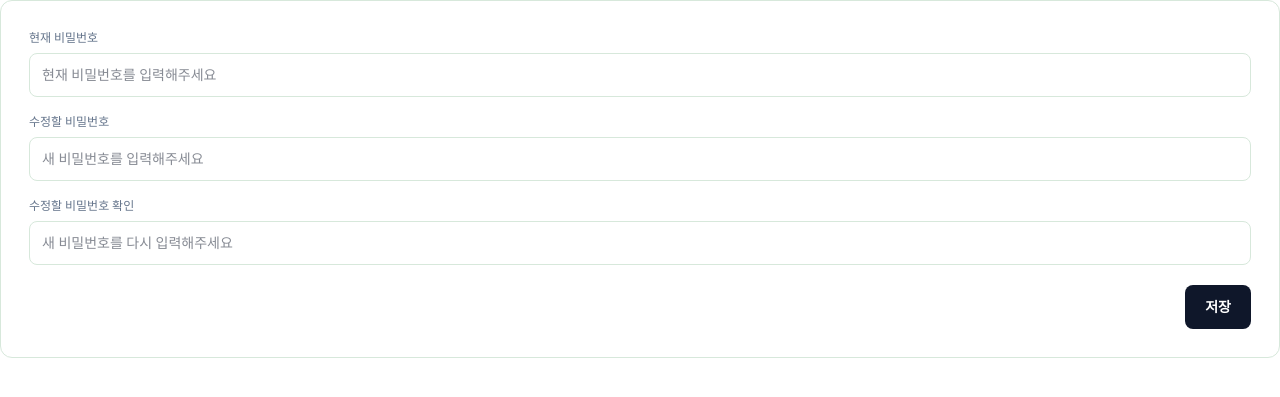
Test: MyPassword › 현재 비밀번호를 입력하지 않으면 에러 메시지를 노출하고 변경하지 않는다
The image size is (1280, 397).
Type "newpass1234" into the password field with placeholder "새 비밀번호를 입력해주세요". click: (640, 159)
box: left=29, top=137, right=1251, bottom=181
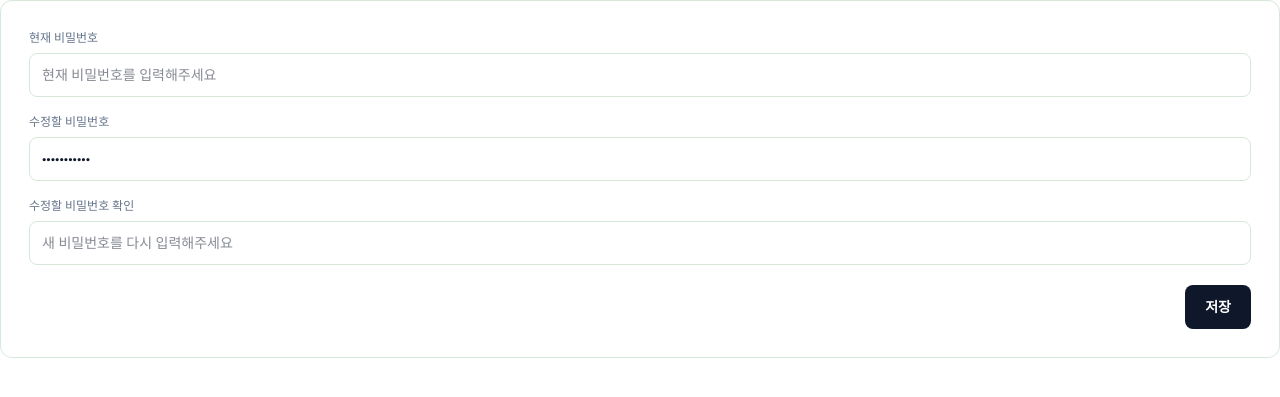
Type "newpass1234" into the password field with placeholder "새 비밀번호를 다시 입력해주세요". click: (640, 243)
box: left=29, top=221, right=1251, bottom=265
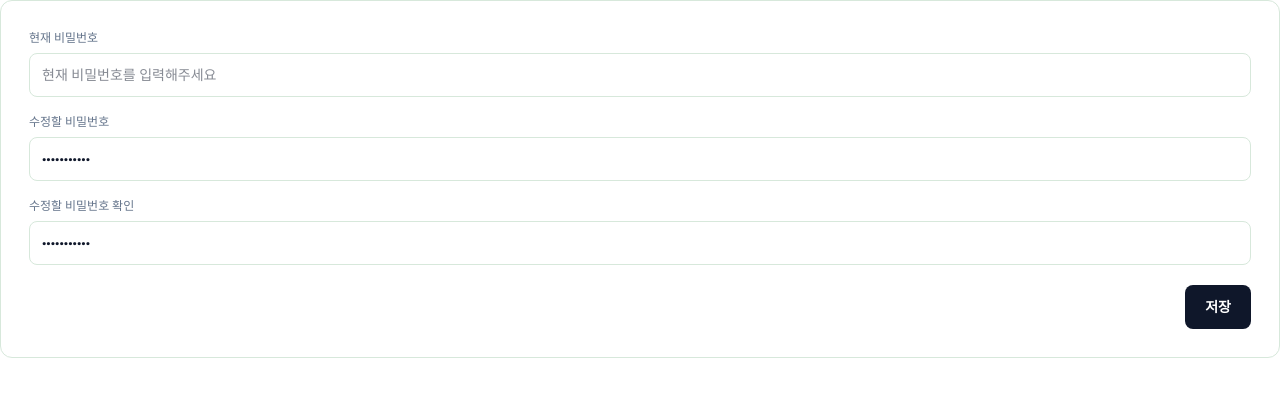
Click the button "저장". click: (1218, 307)
box: left=1185, top=285, right=1251, bottom=329
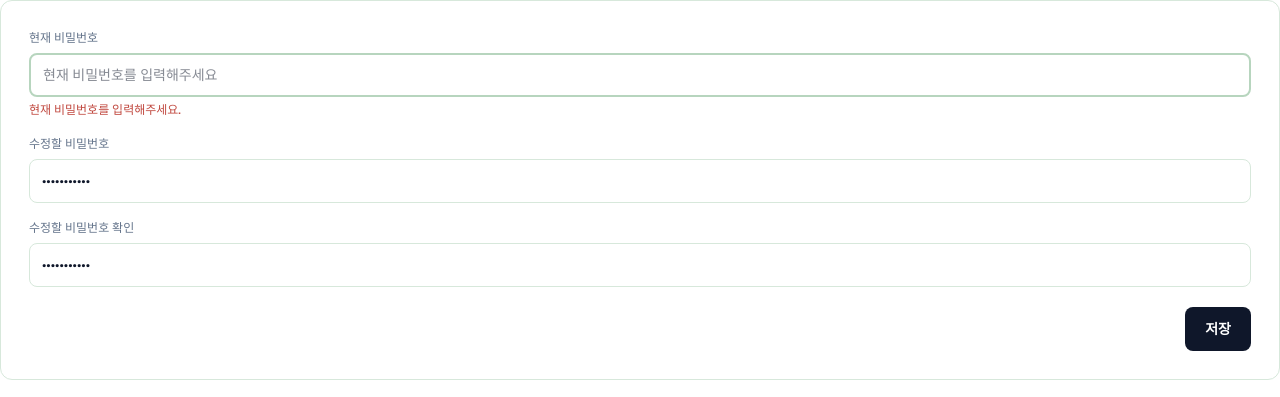
Check: the text "현재 비밀번호를 입력해주세요." is shown, box left=29, top=102, right=181, bottom=118
